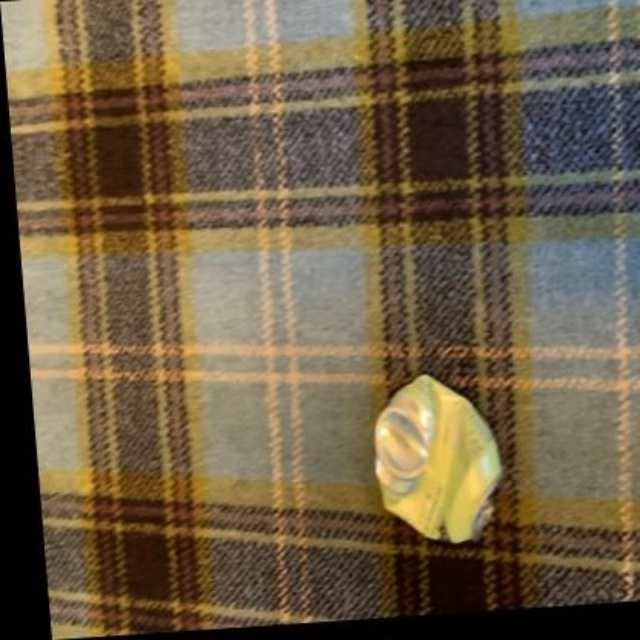trash: (375, 375, 500, 542)
